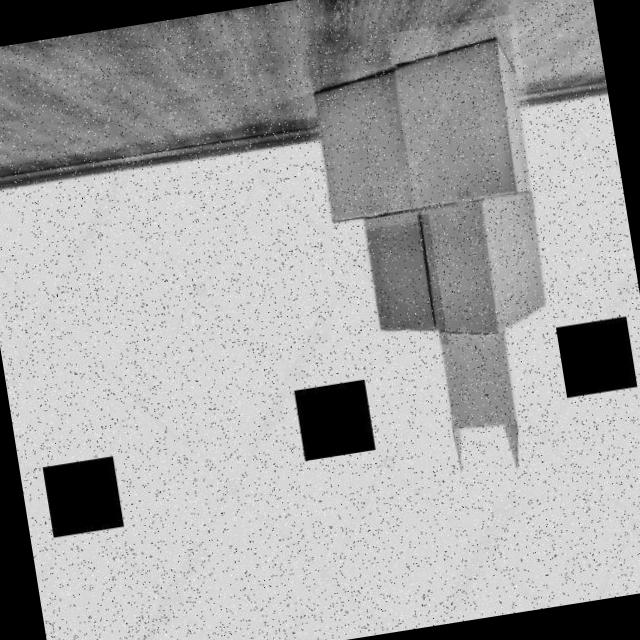box: (387, 14, 543, 216), (403, 310, 538, 500), (413, 184, 564, 350), (301, 65, 418, 236), (347, 206, 449, 356)
